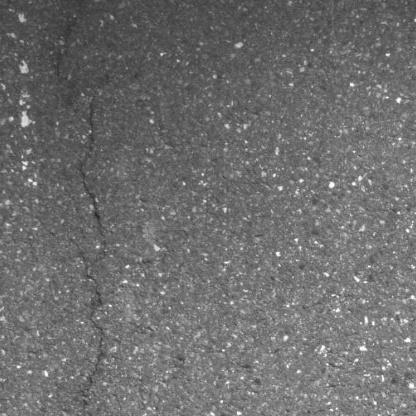Cracks: (74, 99, 113, 416)
